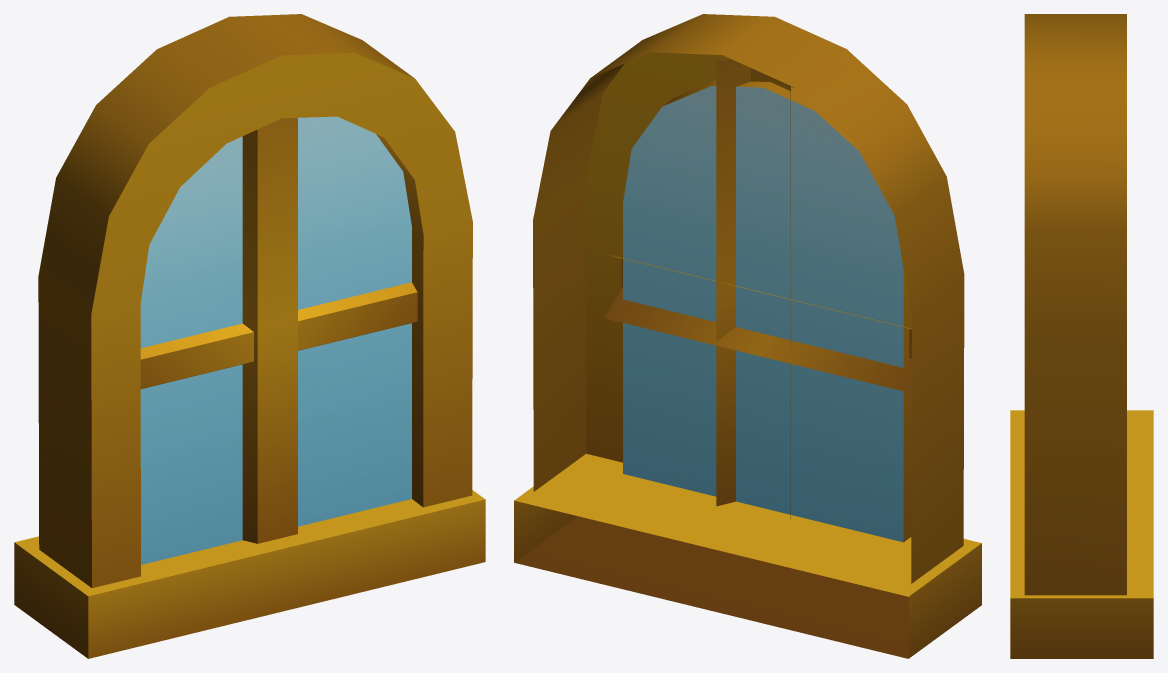
File: Window_01B.fbx
The picture shows the model from 3 angles, left to right: view 1: azimuth 30°, elevation 25°; view 2: azimuth 150°, elevation 25°; view 3: azimuth 270°, elevation 25°; orthographic projection. The views are drawn at different scales.
Parts seen in each view (by area): view 1: Window_01B; view 2: Window_01B; view 3: Window_01B.
Boxes of the visible parts, x1,y1,x2,y2 form: Window_01B: (14,14,485,658); Window_01B: (514,14,981,658); Window_01B: (1010,14,1153,658).
Bounding box in the file's own units: 113 × 149 × 36.42.
Materials: 2 (2 with a texture image).
